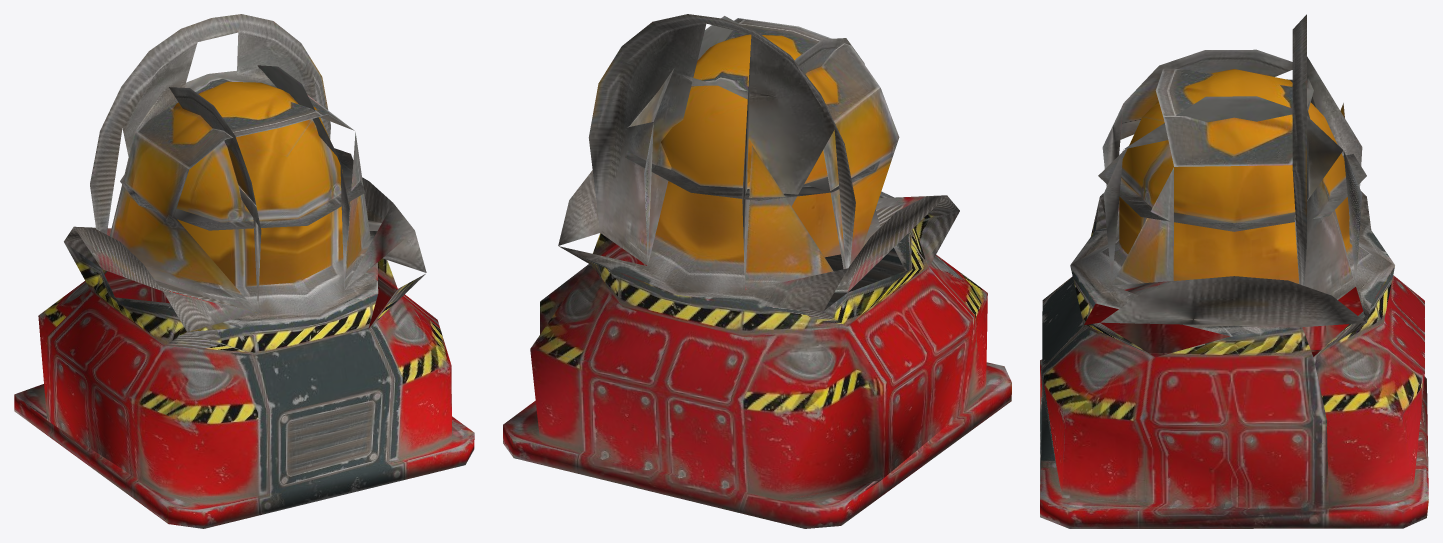
File: alarm_beacon.glb
3 views of the same model, side by side, from view 1: azimuth 30°, elevation 25°; view 2: azimuth 150°, elevation 25°; view 3: azimuth 270°, elevation 25° (orthographic). The views are drawn at different scales.
Visible parts, largest first — view 1: alarm_beacon; view 2: alarm_beacon; view 3: alarm_beacon.
Part boxes in pixels (bbox=[...]): alarm_beacon: bbox=[14, 14, 474, 528]; alarm_beacon: bbox=[503, 14, 1011, 528]; alarm_beacon: bbox=[1040, 14, 1428, 528].
Size of the model in its own units: 0.6665 by 0.8 by 0.6698.
1 material, 1 textured.
